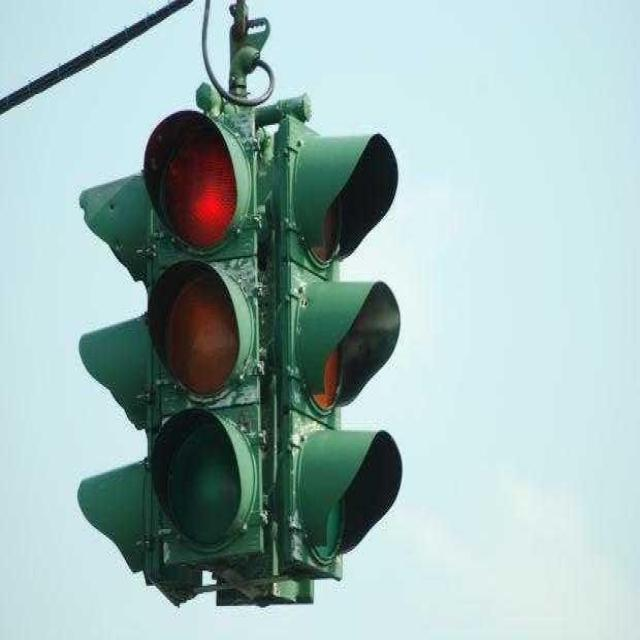Traffic Light -Red-: (129, 98, 270, 581)
Traffic Light -Yellow-: (262, 108, 413, 584)
